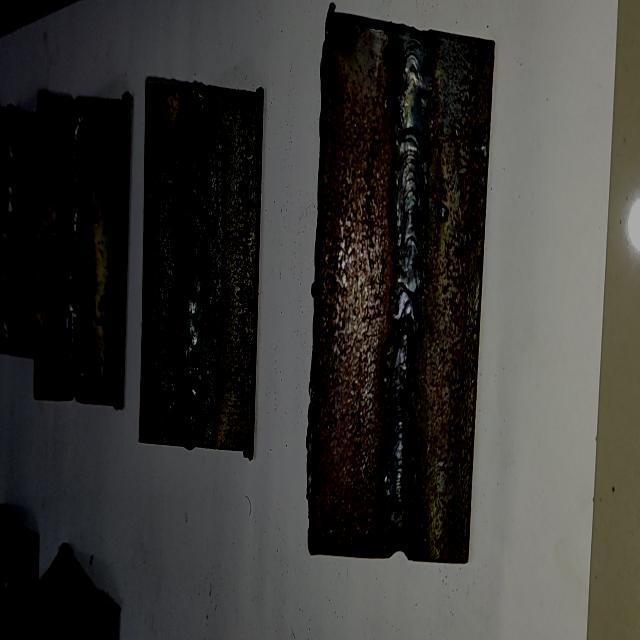Defect: (174, 308, 212, 451), (62, 142, 94, 222)
Welding Line: (380, 35, 430, 548), (177, 82, 210, 446), (62, 106, 94, 396), (0, 116, 15, 344)
Workpiece: (298, 7, 504, 567), (134, 78, 268, 452), (30, 89, 136, 407), (0, 102, 45, 362)
